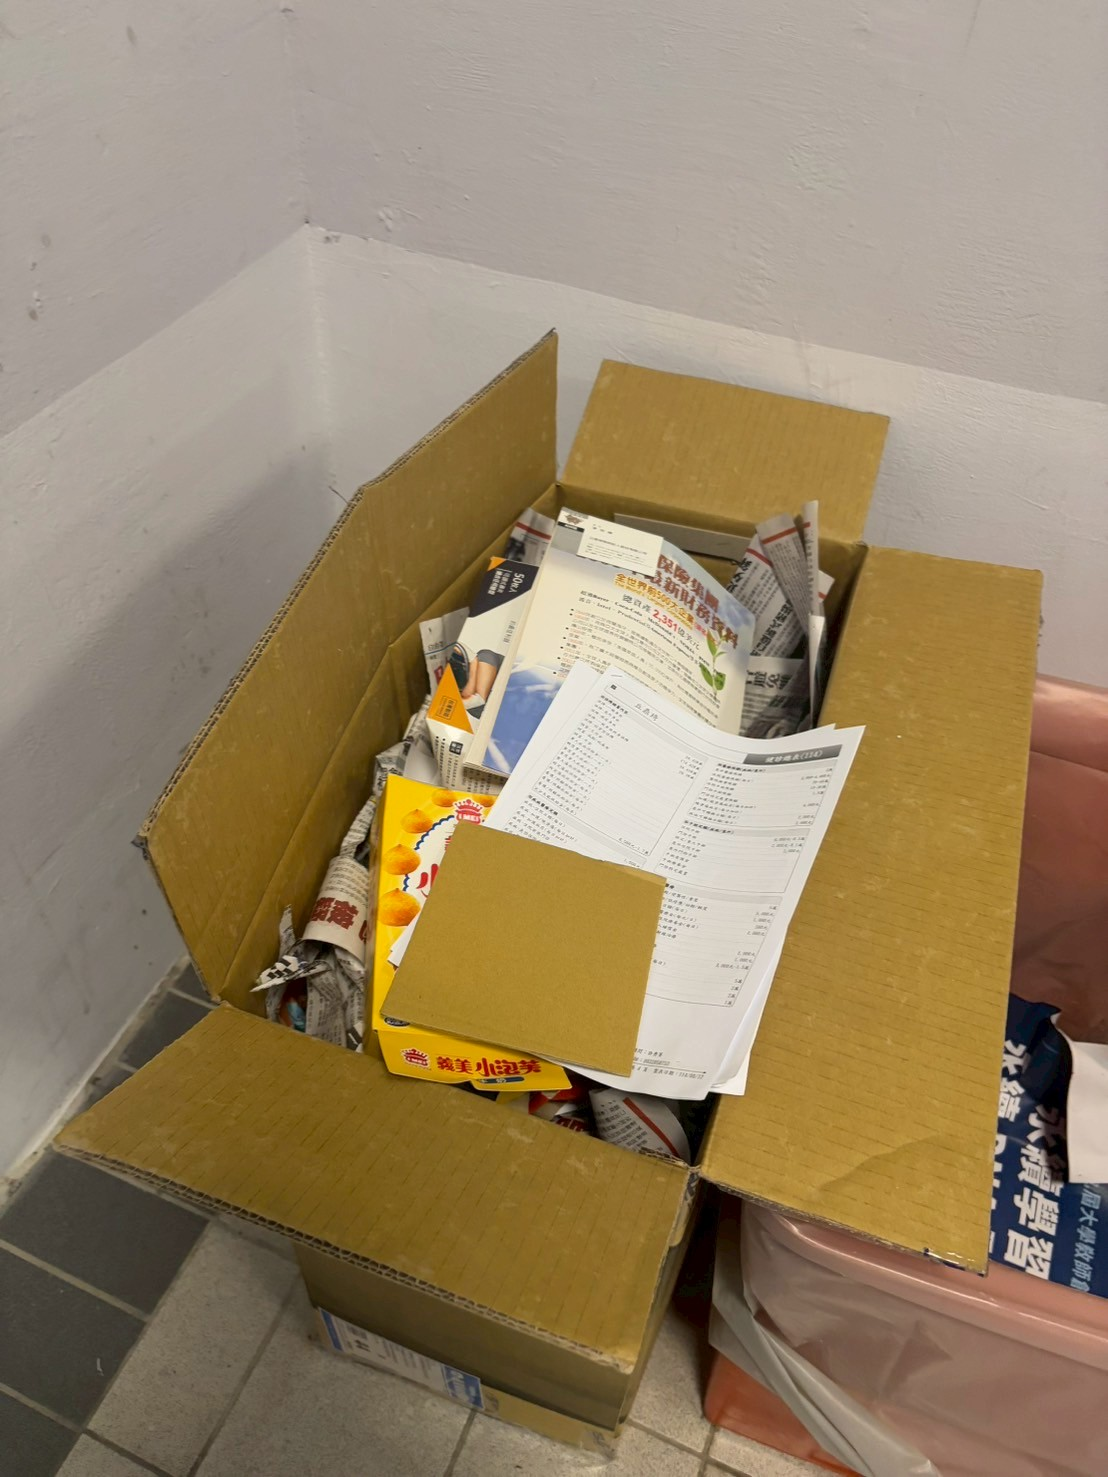overflow_bin: (79, 246, 1043, 1423)
